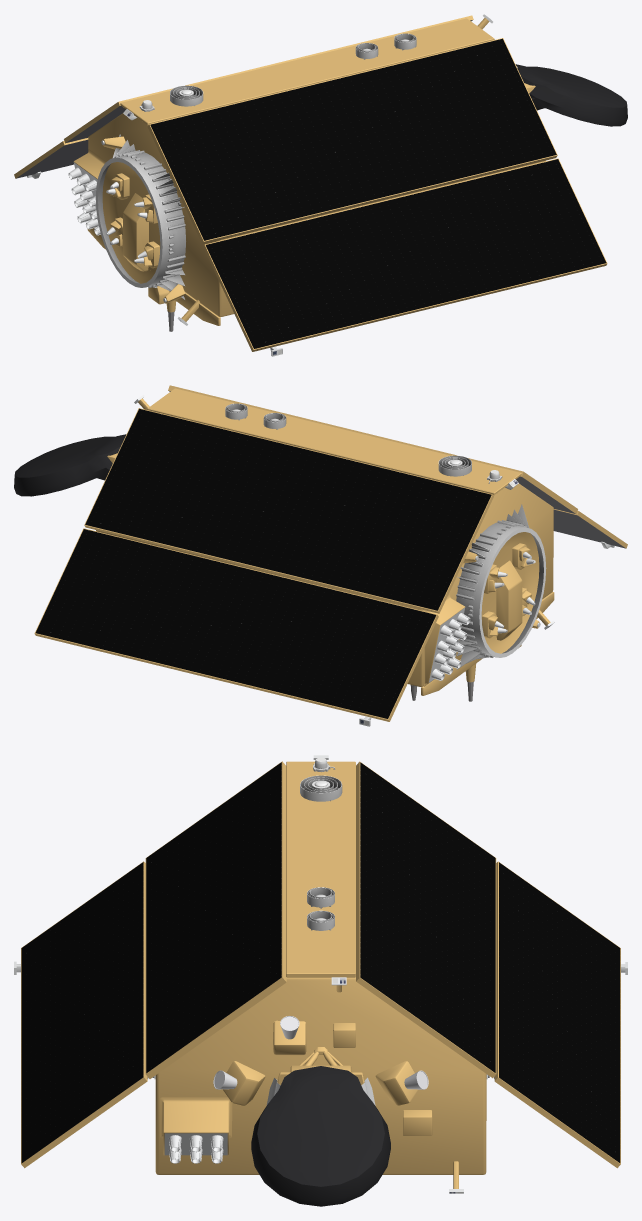
Rendered from sentinel-6.glb.
The picture shows the model from 3 angles, top to bottom: view 1: azimuth 30°, elevation 25°; view 2: azimuth 150°, elevation 25°; view 3: azimuth 270°, elevation 25°; orthographic projection. The views are drawn at different scales.
Visible parts, largest first — view 1: array, AMR; view 2: array, AMR; view 3: array, AMR, BUS.
Part boxes in pixels (x1,y1,x2,y2): array: (14, 15, 607, 351); AMR: (27, 14, 627, 356); array: (34, 385, 627, 721); AMR: (14, 395, 614, 726); array: (21, 761, 620, 1188); AMR: (14, 755, 627, 1206); BUS: (213, 1016, 428, 1089).
Bounding box in the file's own units: 5.13 × 2.32 × 4.37.
13 materials, 4 textured.
